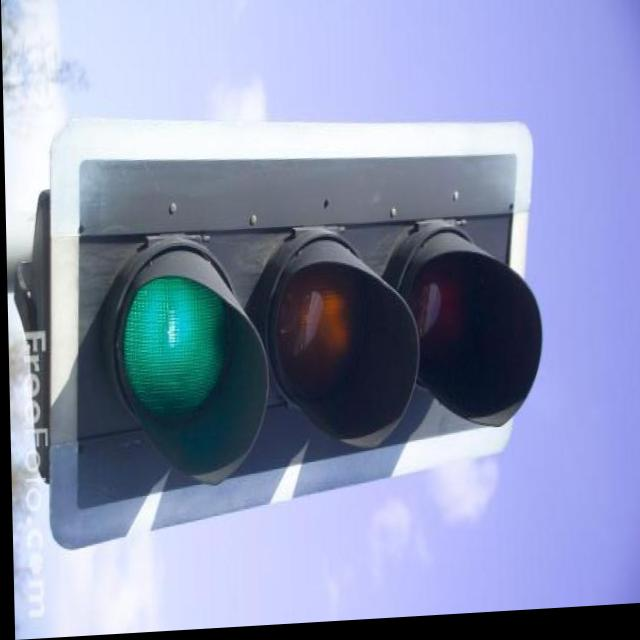green light: (68, 169, 540, 509)
